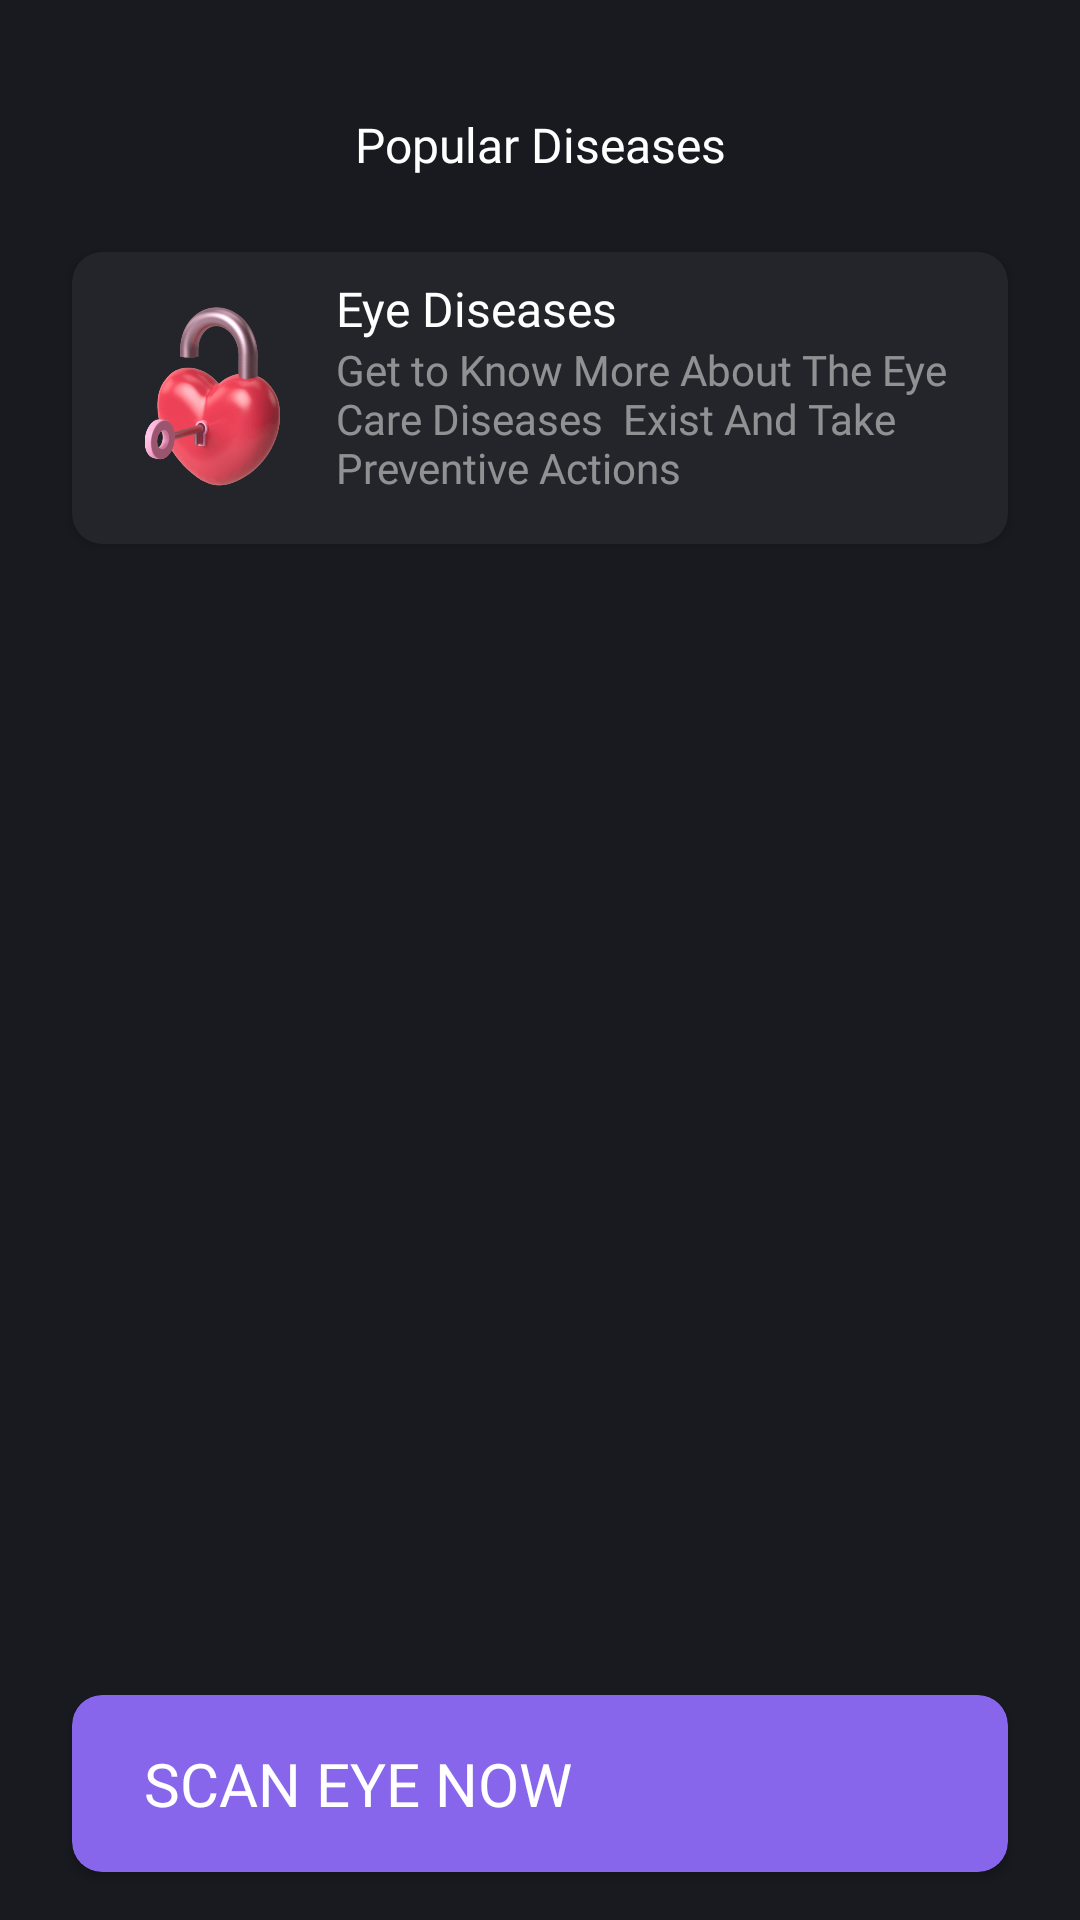

Where icons sit on this 1080px x 1920px app screen, as (x1, y1, x2, y2):
heart: (145, 307, 280, 486)
